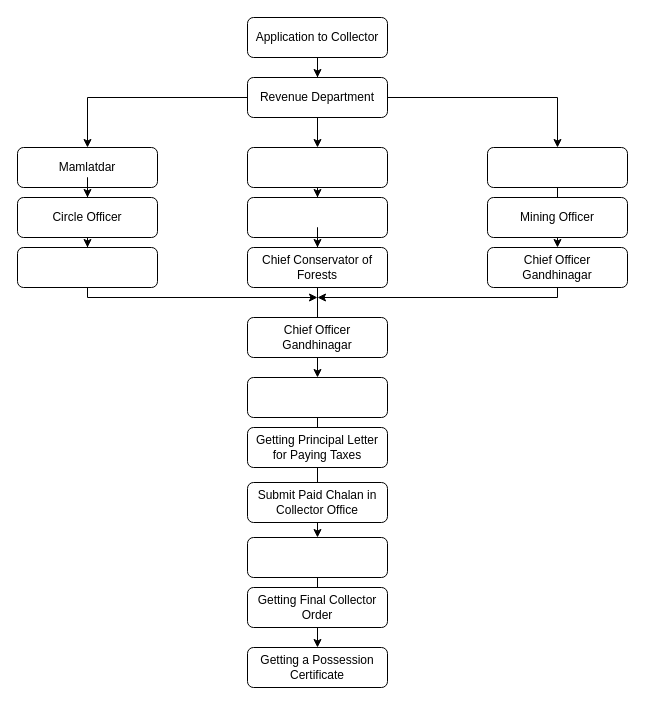
Image size: 645x705. Some labels were removed from this diagram. The box of each missing label's shape, as (x1, y1, x2, y2) in pixels:
Collector: (246, 376, 388, 418)
Collector to Stamp Duty for Verification of Challan: (246, 536, 388, 578)
Deputy Collector: (16, 246, 158, 288)
Forest: (246, 146, 388, 188)
Mining: (486, 146, 628, 188)
Range Forest Officer: (246, 196, 388, 238)
